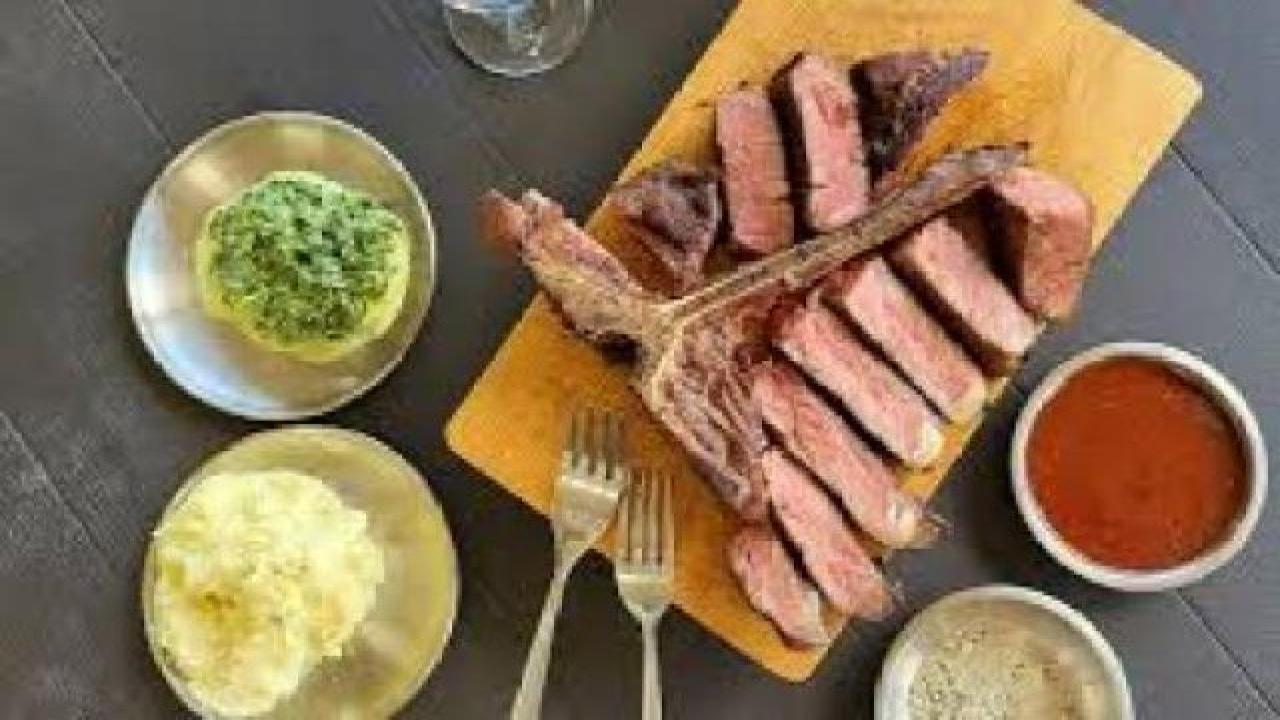Carne: (546, 36, 1071, 631)
